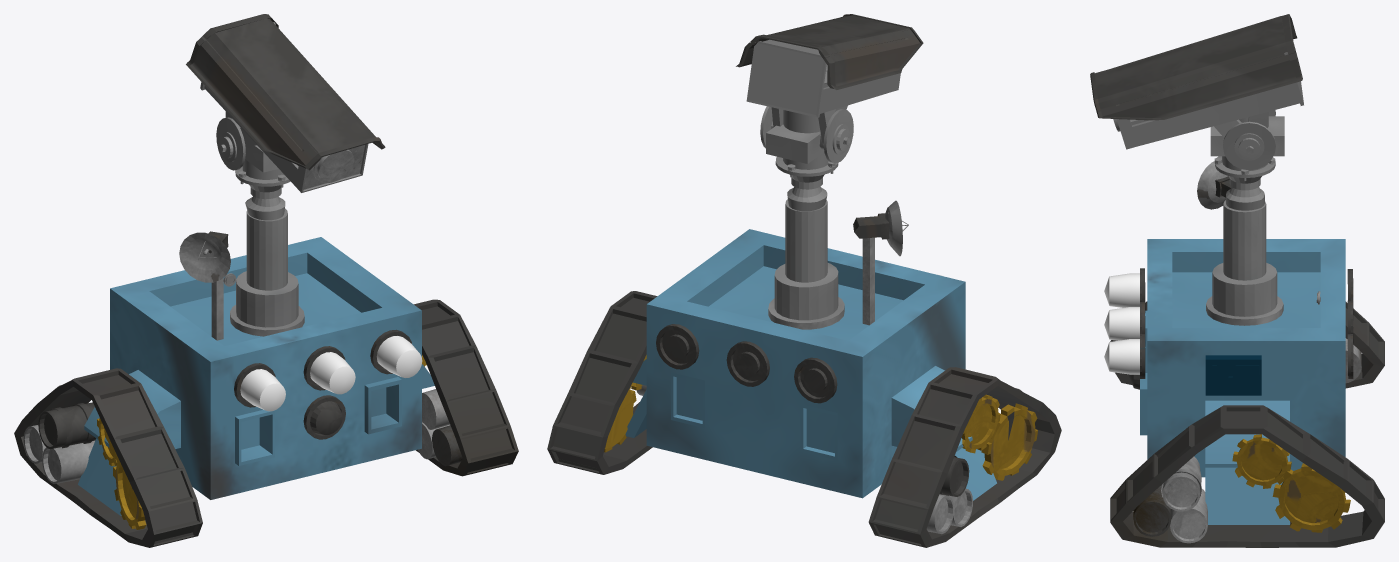
The model's file is RobotThief2_LP.fbx.
3 views of the same model, side by side, from view 1: azimuth 30°, elevation 25°; view 2: azimuth 150°, elevation 25°; view 3: azimuth 270°, elevation 25° (orthographic). The views are drawn at different scales.
Parts seen in each view (by area): view 1: RobotBase, RobotCamera; view 2: RobotBase, RobotCamera; view 3: RobotBase, RobotCamera.
Boxes of the visible parts, bbox=[...] form: RobotBase: bbox=[14, 196, 518, 547]; RobotCamera: bbox=[186, 14, 385, 199]; RobotBase: bbox=[547, 186, 1061, 547]; RobotCamera: bbox=[736, 14, 923, 189]; RobotBase: bbox=[1104, 161, 1384, 547]; RobotCamera: bbox=[1090, 14, 1303, 190].
Bounding box in the file's own units: 1071 × 1199 × 746.
